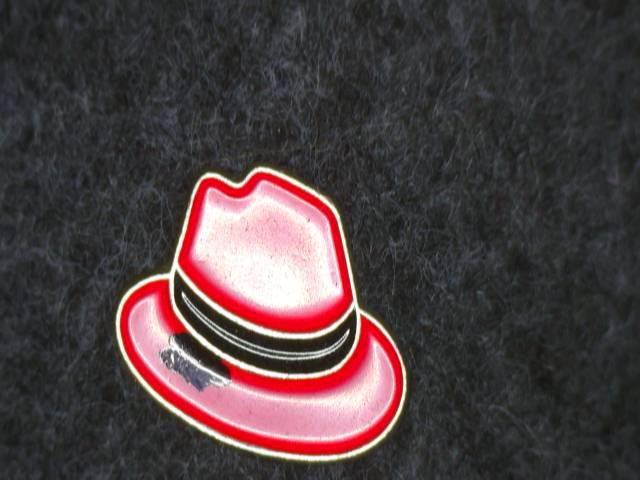Red-Hat: (90, 147, 428, 469)
Scratch: (144, 310, 258, 405)
